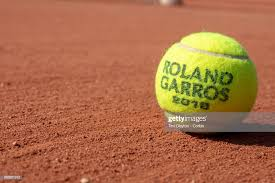tennis_ball: (154, 31, 259, 132)
